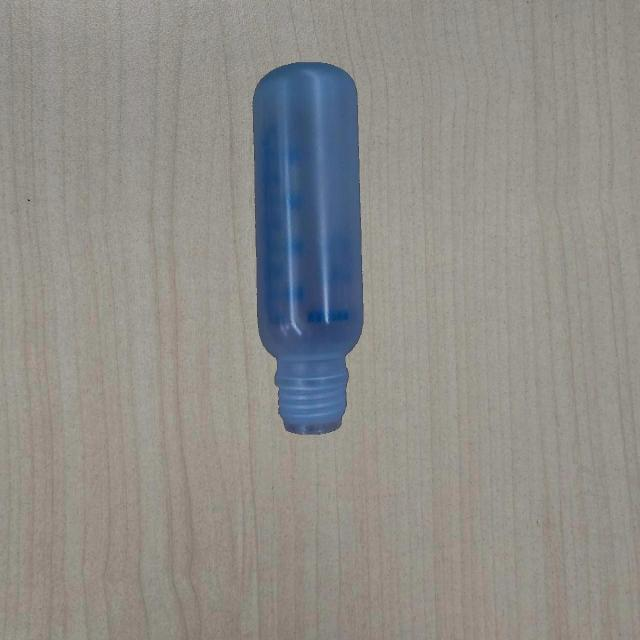bottle: (252, 60, 368, 439)
